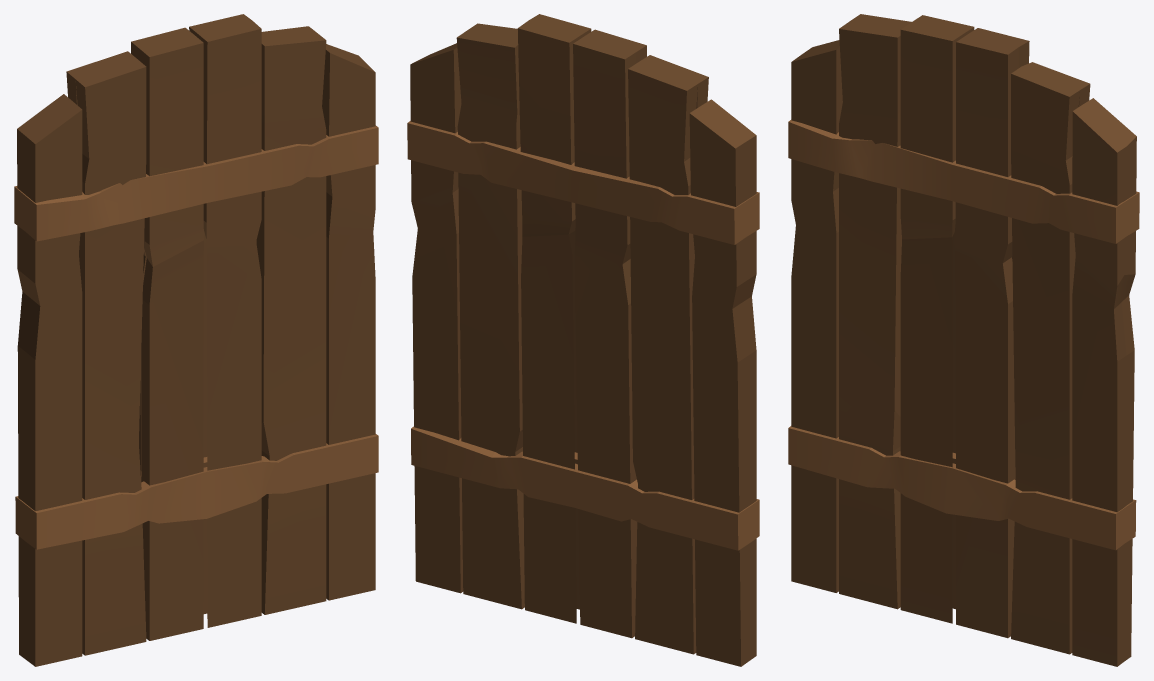
File: door2.0.fbx
3 views of the same model, side by side, from view 1: azimuth 30°, elevation 25°; view 2: azimuth 150°, elevation 25°; view 3: azimuth 330°, elevation 25° (orthographic).
Visible parts, largest first — view 1: House_1.001; view 2: House_1.001; view 3: House_1.001.
Part boxes in pixels (x1,y1,x2,y2): House_1.001: [14, 14, 378, 666]; House_1.001: [407, 14, 759, 666]; House_1.001: [788, 14, 1139, 666].
Bounding box in the file's own units: 182 × 304 × 28.24.
